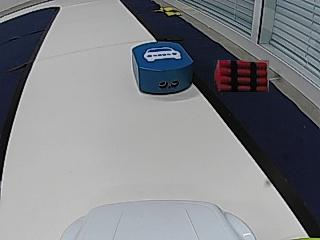safety: (144, 46, 182, 62)
